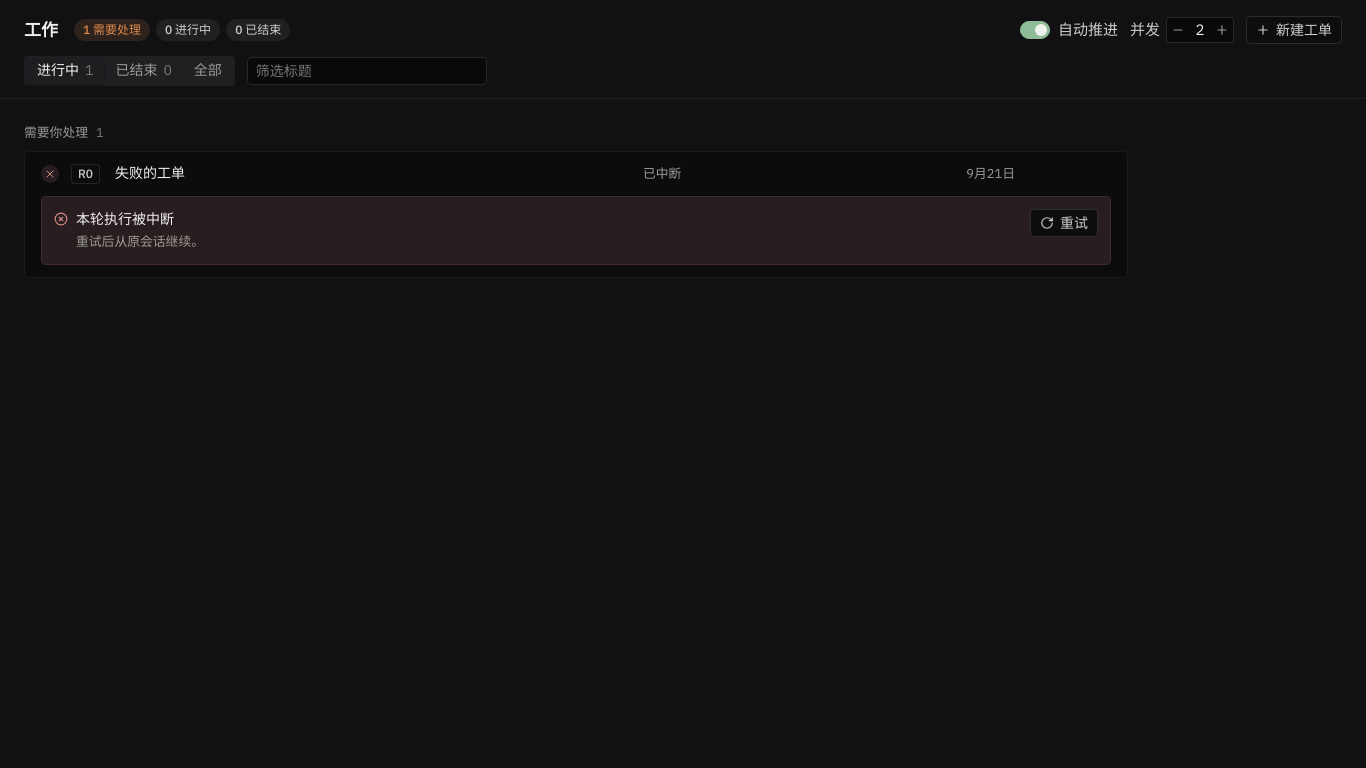
Test: work board › keeps the row stage short, tells the cause once, and keeps the raw failure in the item's technical detail
The image size is (1366, 768).
Expected: the text "本轮执行被中断" is shown once, x1=76 y1=210 x2=174 y2=228
Expected: the text "已中断" is shown, x1=643 y1=165 x2=681 y2=182
Click the button "失败的工单": (150, 173) x1=115 y1=163 x2=631 y2=185
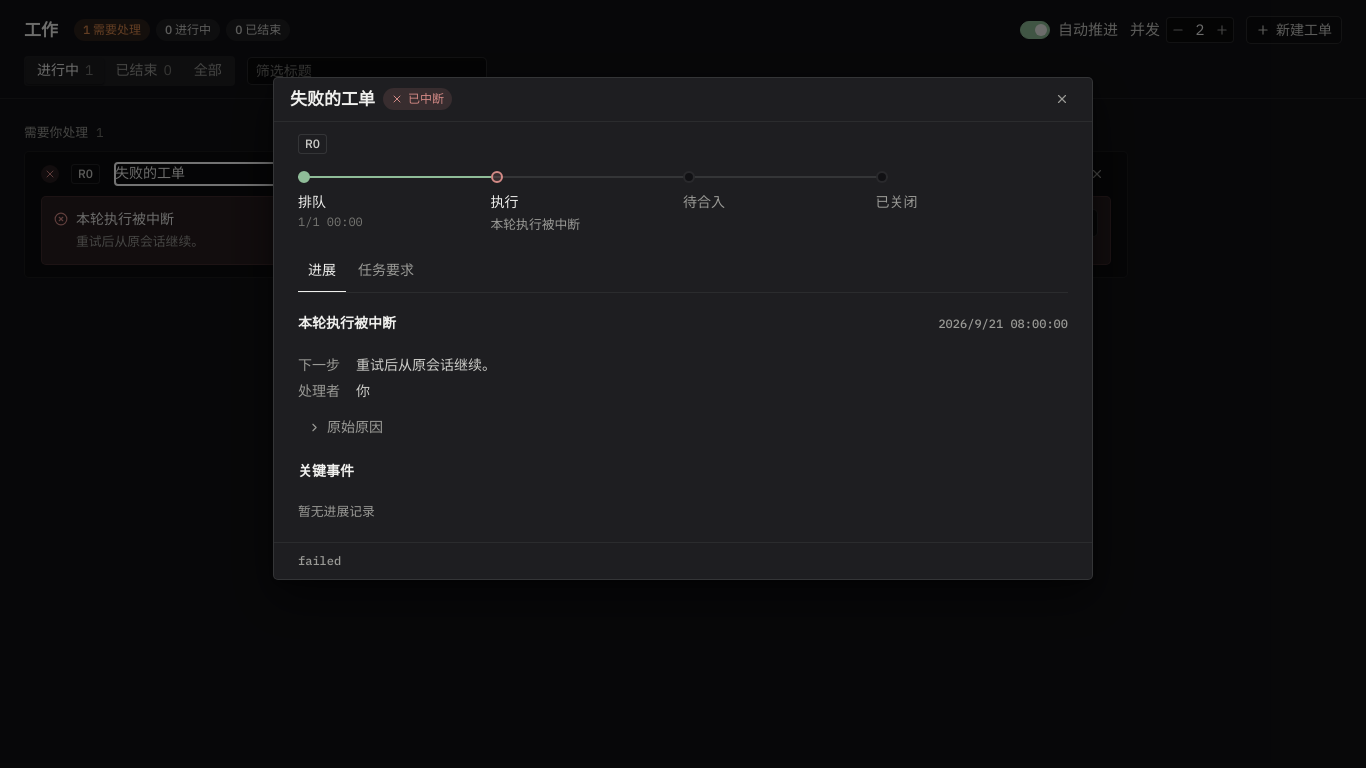
Expected: the dialog "失败的工单" does not show "stream closed"
Click the button "原始原因": (346, 427) x1=298 y1=413 x2=393 y2=441
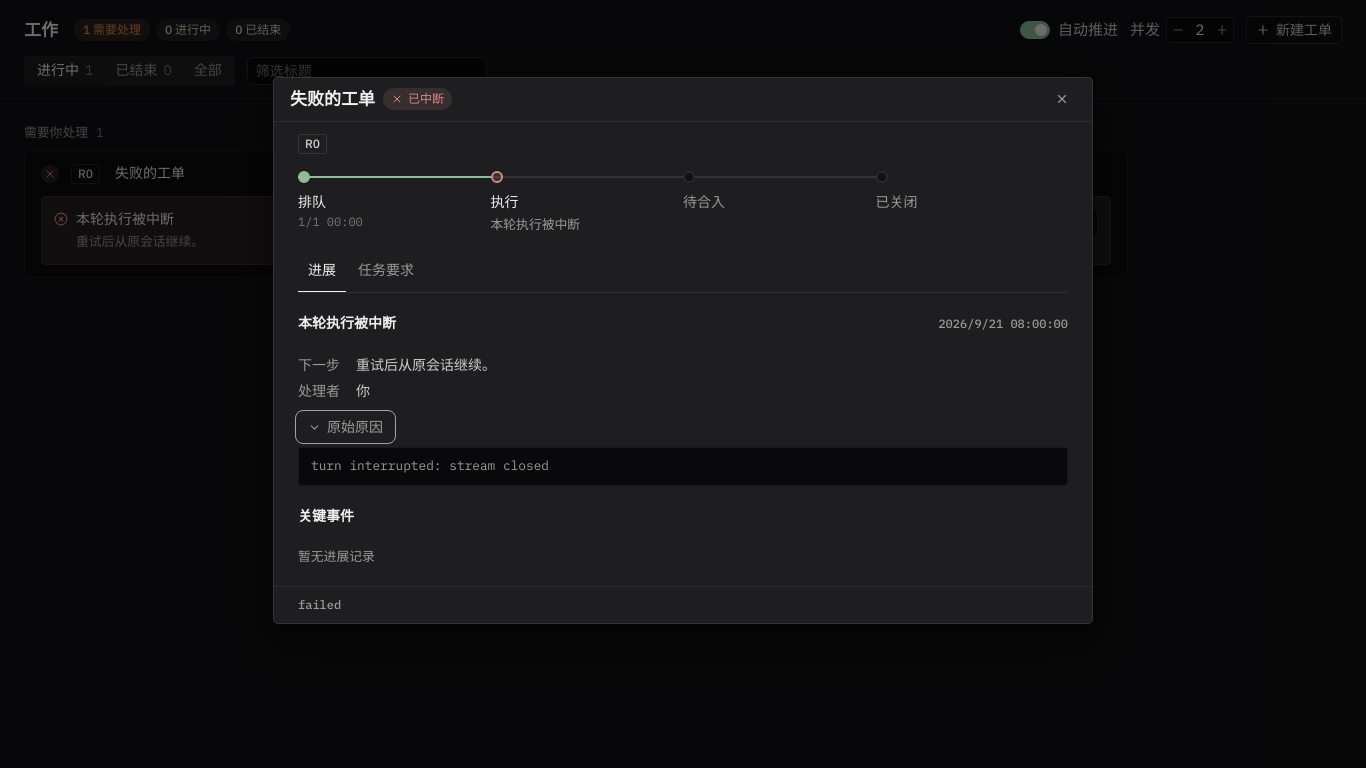
Expected: the text "turn interrupted: stream closed" is shown, x1=298 y1=447 x2=1068 y2=486
